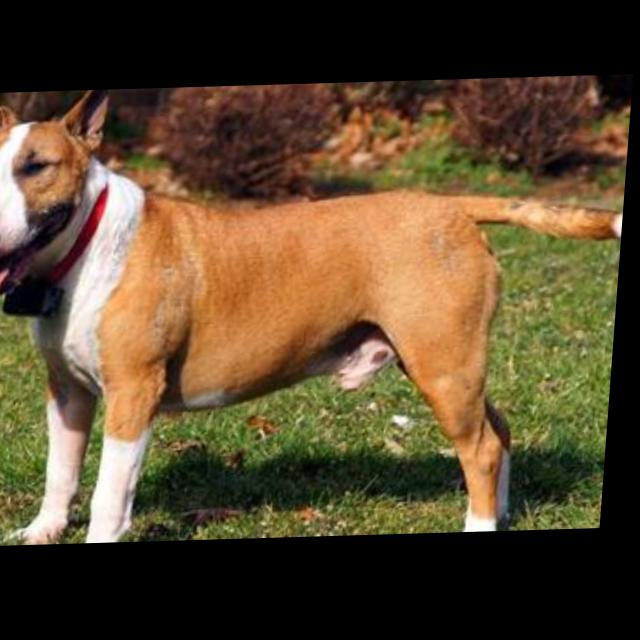bullterrier: (1, 79, 636, 548)
